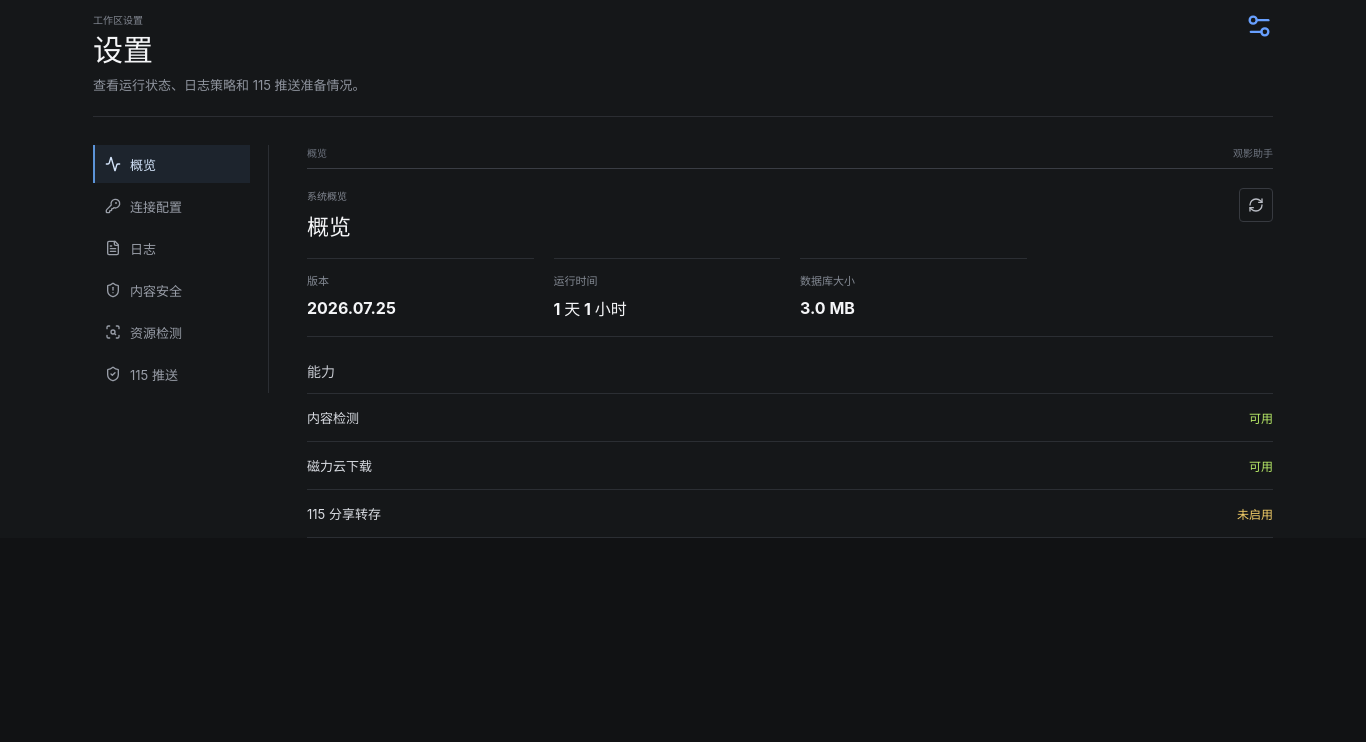
Test: SettingsView › saves uppercase logging settings with numeric revision and clears a conflict after reload
The image size is (1366, 742).
Click the button "日志".
click(172, 248)  # box 93,229 -> 250,267
(page scrolled)
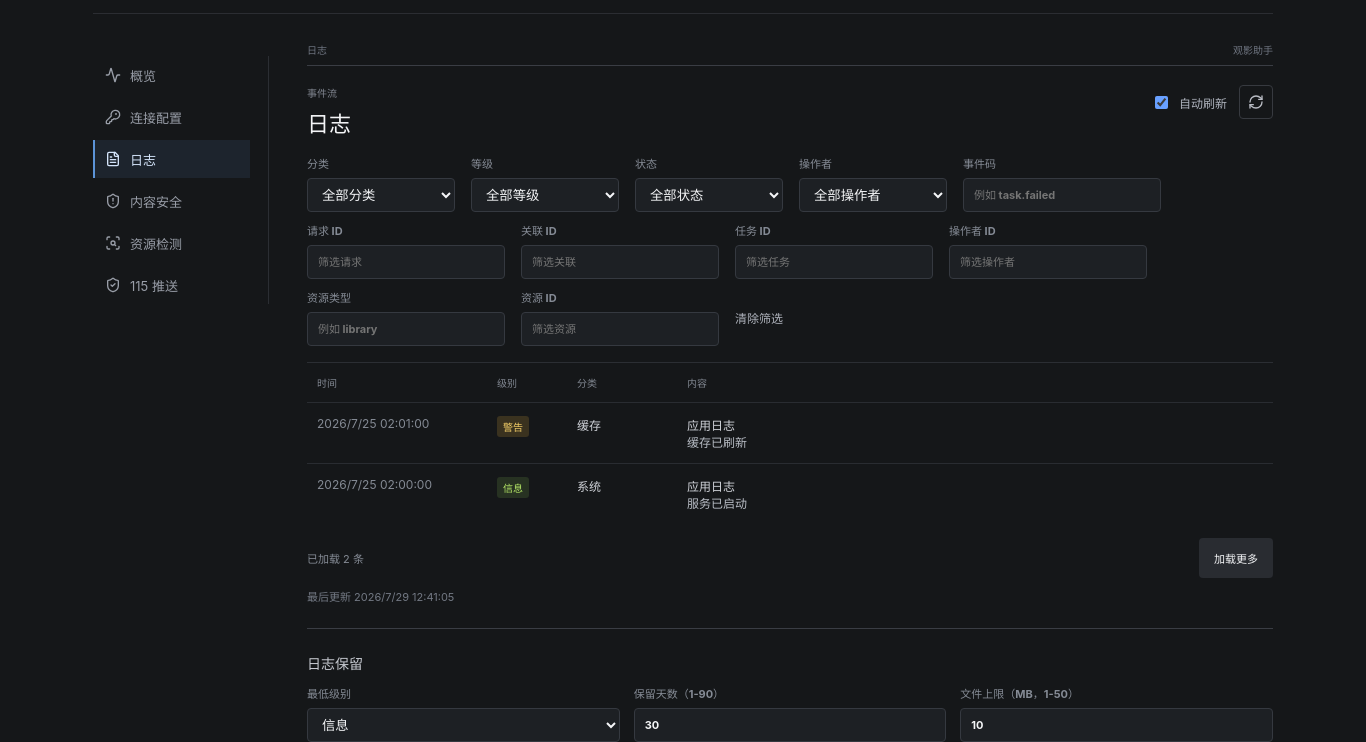
Select "警告" in the dropdown labelled "最低级别" at (463, 725), box 307,708 -> 620,741
(page scrolled)
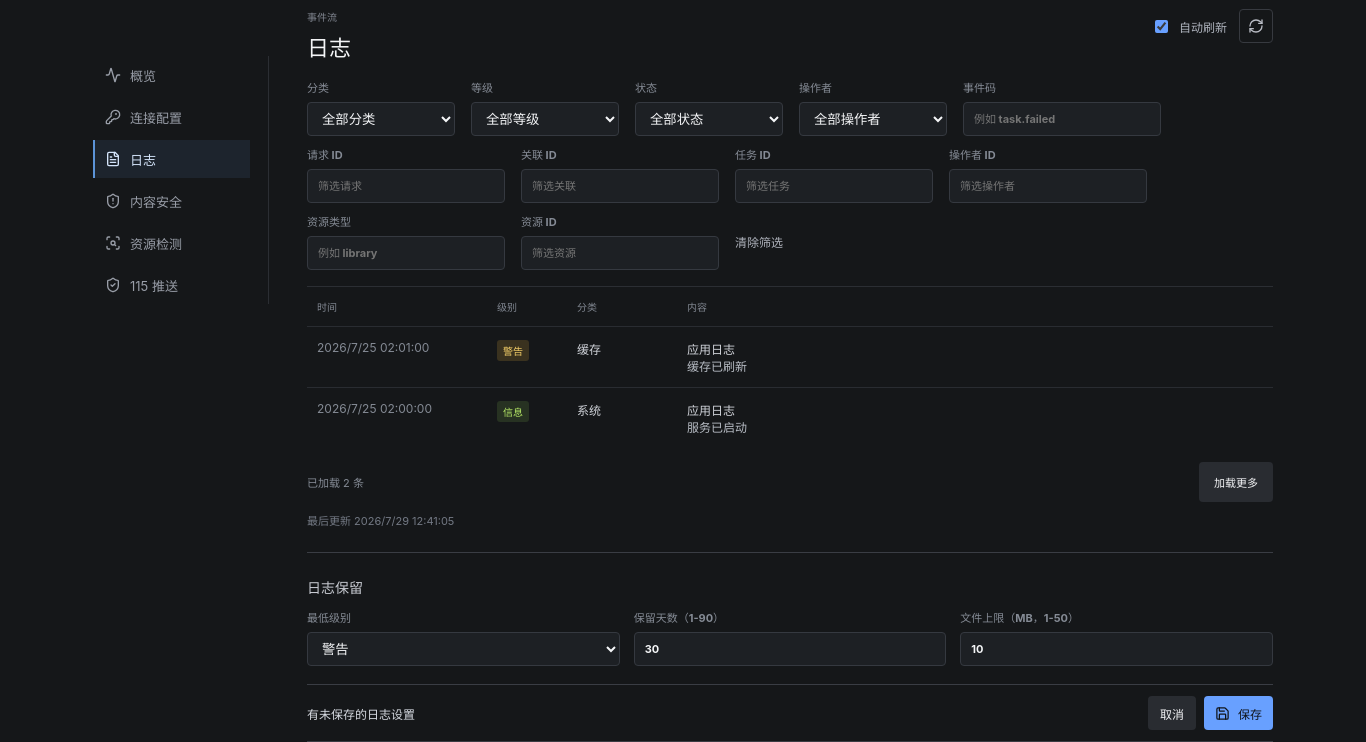
Click the button "保存".
click(1238, 713)  # box 1204,696 -> 1273,730
(page scrolled)
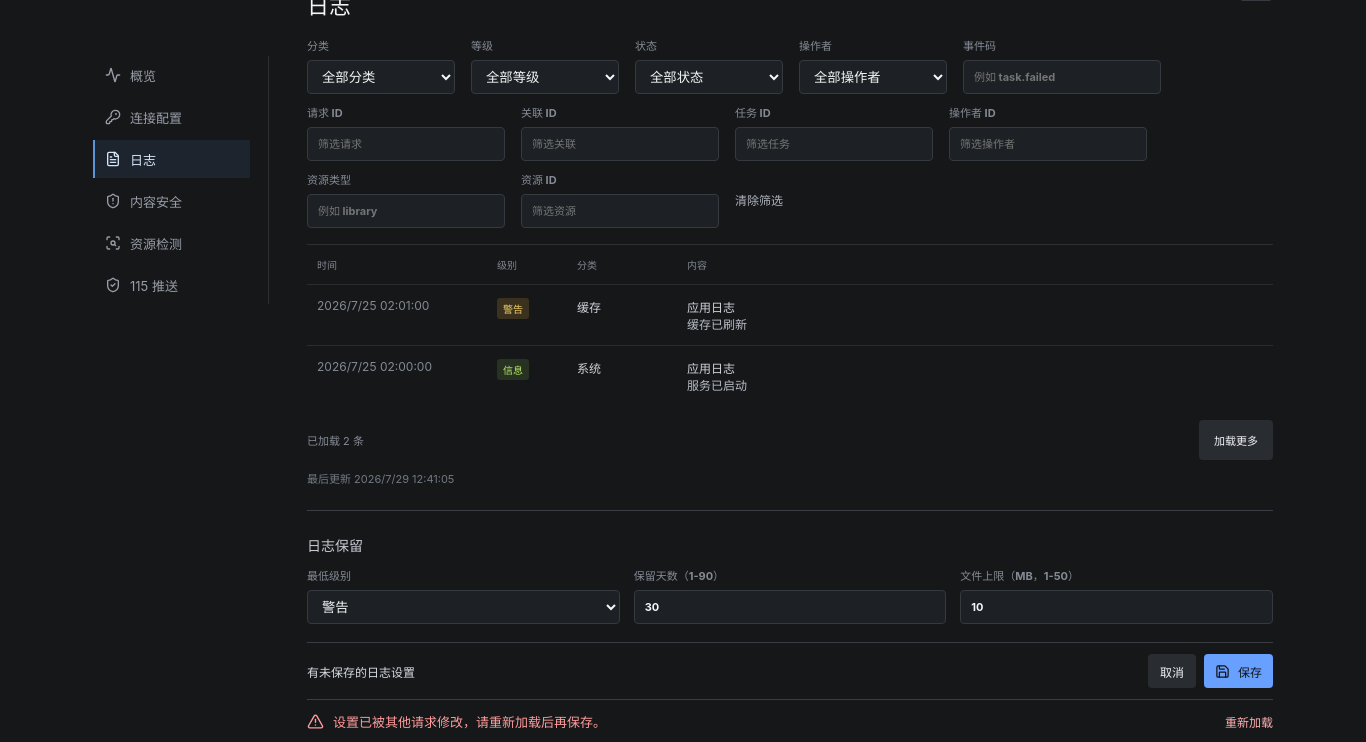
Check: the text "设置已被其他请求修改" is shown, box 333,714 -> 606,730
Click the button "重新加载".
click(1249, 721)  # box 1225,712 -> 1273,730
(page scrolled)
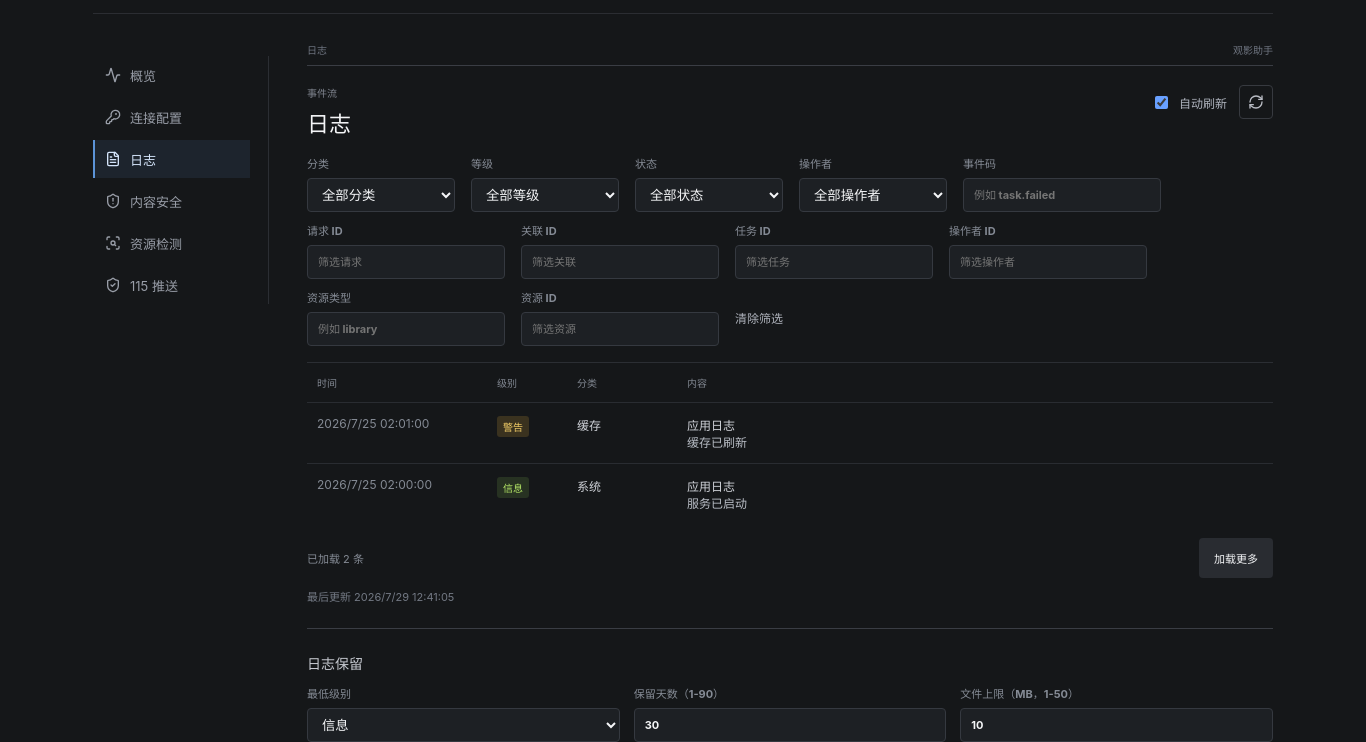
Check: the text "设置已被其他请求修改" is gone
